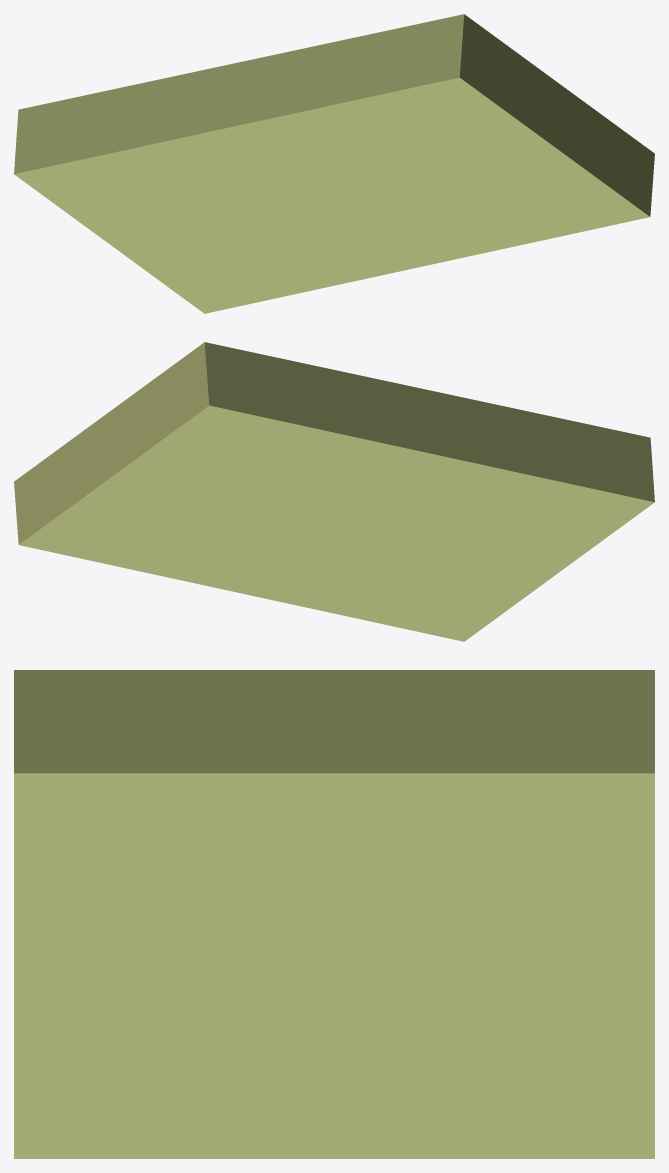
The picture shows the model from 3 angles, top to bottom: view 1: azimuth 30°, elevation 25°; view 2: azimuth 150°, elevation 25°; view 3: azimuth 270°, elevation 25°; orthographic projection. The views are drawn at different scales.
Visible parts, largest first — view 1: 0_2_1_3_0_0_2_0_3_1_2; view 2: 0_2_1_3_0_0_2_0_3_1_2; view 3: 0_2_1_3_0_0_2_0_3_1_2.
Part boxes in pixels (left/top/right/bottom): 0_2_1_3_0_0_2_0_3_1_2: left=14, top=14, right=654, bottom=313; 0_2_1_3_0_0_2_0_3_1_2: left=14, top=342, right=654, bottom=641; 0_2_1_3_0_0_2_0_3_1_2: left=14, top=670, right=654, bottom=1158.
Bounding box in the file's own units: 8.18 × 1.31 × 6.
